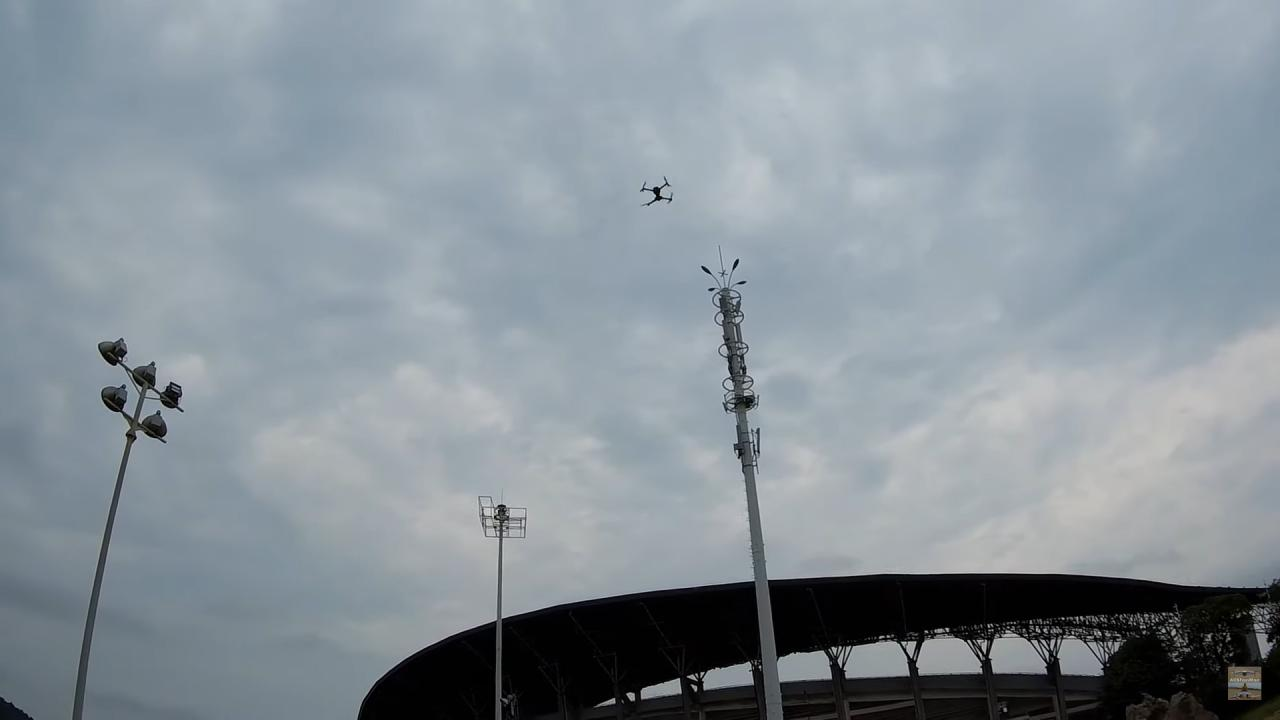Drone: (632, 170, 684, 214)
